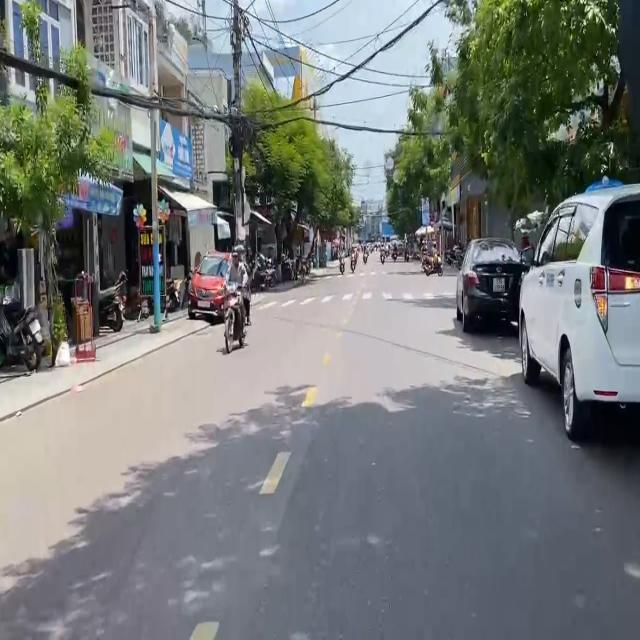walk-crossing: (248, 290, 457, 302)
